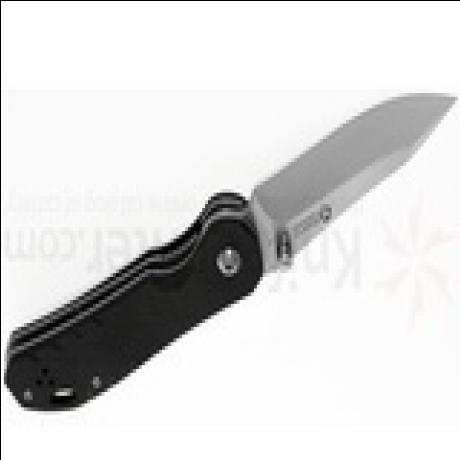weapon: (0, 0, 458, 455)
